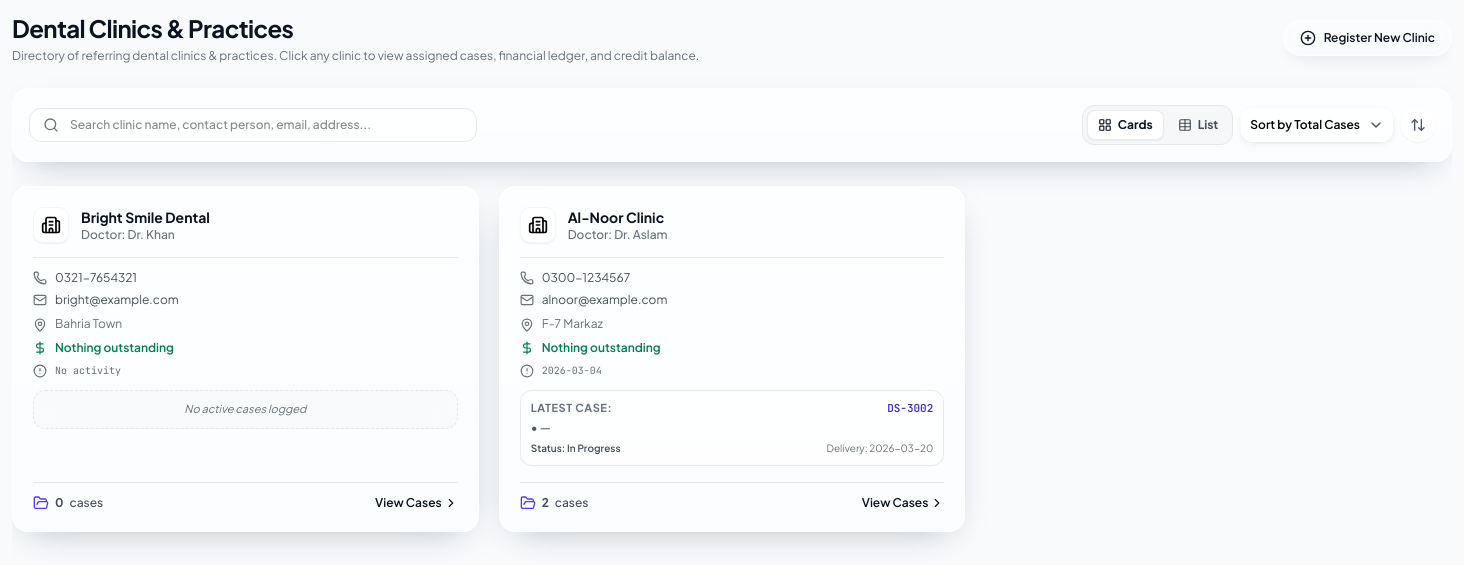
Test: Dental Clinics list view › switches to a dense table with every contact column
Click the button "List": click(1198, 125) [1168,111,1228,139]
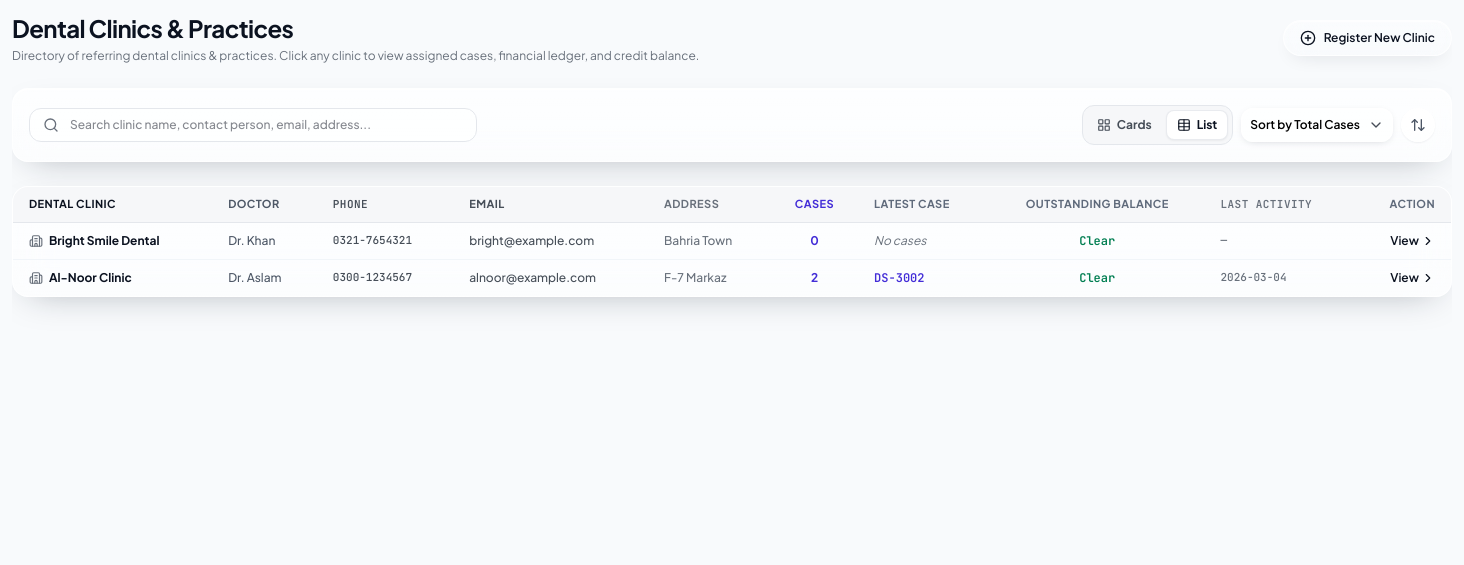
Now the table is shown, box [13,187,1451,296]
Now the column heading "Dental Clinic" is shown, box [13,187,212,222]
Now the column heading "Phone" is shown, box [317,187,453,222]
